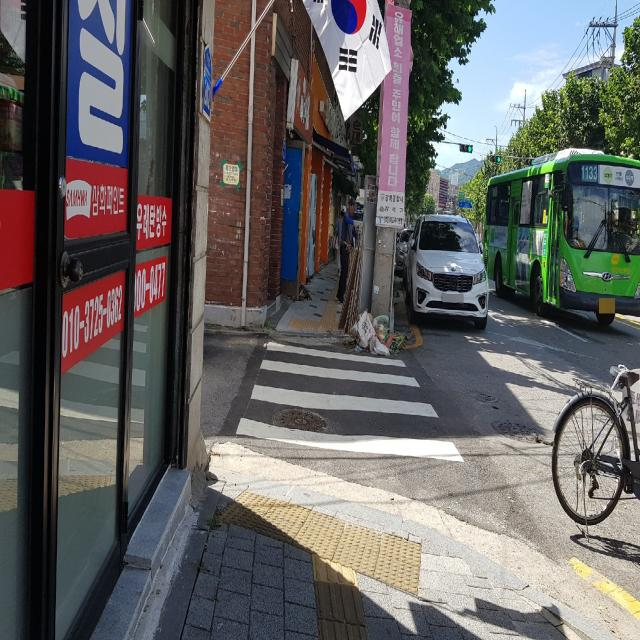횡단보도: (235, 341, 465, 463)
